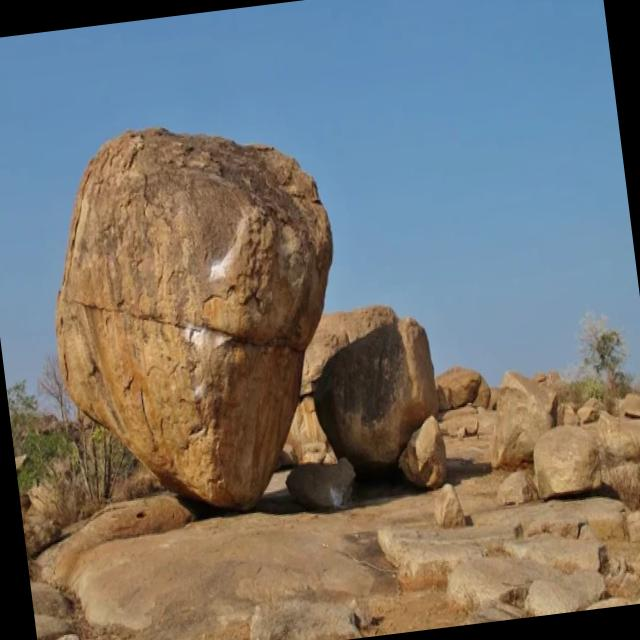rocks: (37, 471, 622, 637)
stone: (56, 127, 332, 507), (301, 306, 438, 470), (490, 384, 554, 466), (251, 597, 362, 640), (534, 425, 601, 496), (448, 557, 530, 605), (286, 457, 355, 506), (399, 416, 446, 485), (30, 582, 73, 640), (596, 414, 640, 466)
